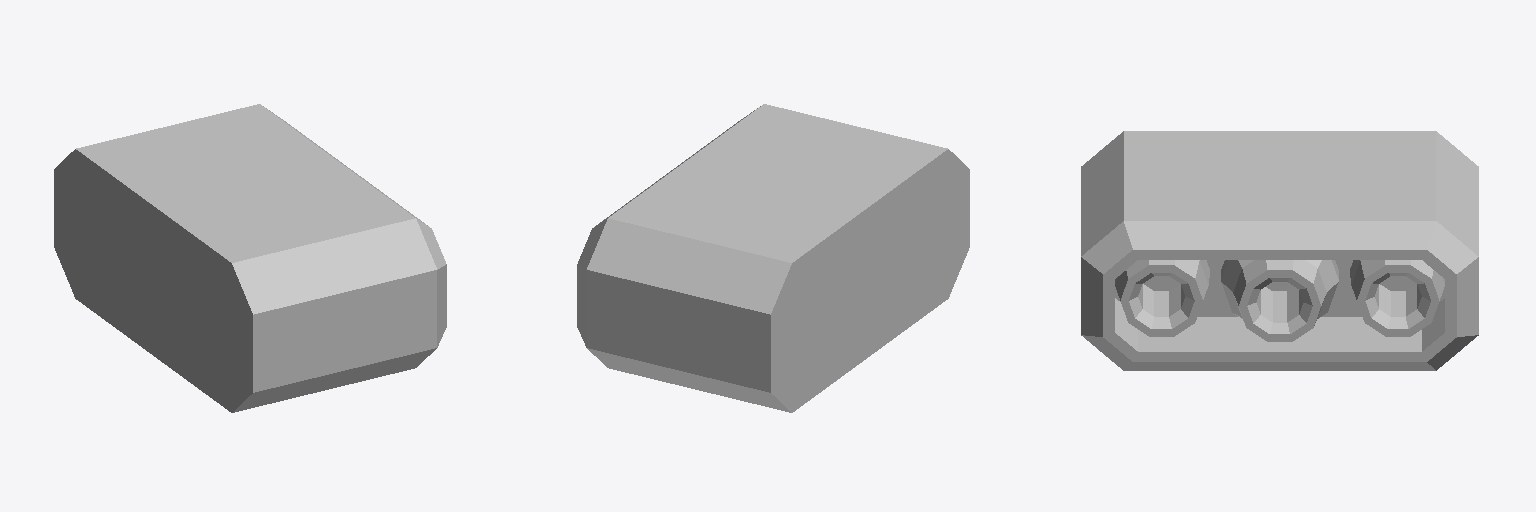
Rendered from Spacestation_Propulsion_Thruster_Triple_Small.obj.
3 renders of one model, left to right at view 1: azimuth 30°, elevation 25°; view 2: azimuth 150°, elevation 25°; view 3: azimuth 270°, elevation 25°, orthographic.
Visible parts, largest first — view 1: object3; view 2: object3; view 3: object3, object1, object2, object4.
Part boxes in pixels (bbox=[...]): object3: bbox=[54, 104, 446, 412]; object3: bbox=[577, 104, 969, 412]; object3: bbox=[1081, 131, 1478, 370]; object1: bbox=[1221, 260, 1338, 341]; object2: bbox=[1115, 260, 1209, 336]; object4: bbox=[1350, 260, 1444, 336].
Size of the model in its own units: 1 by 0.7 by 1.68.